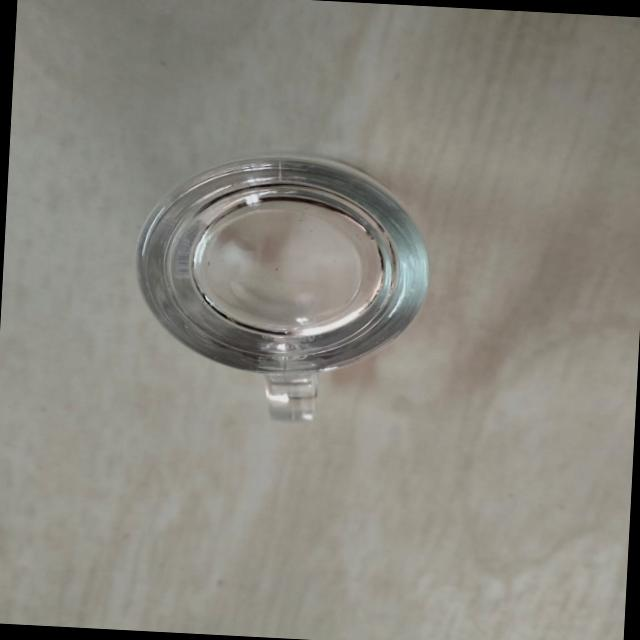glass-VX4N: (128, 146, 454, 428)
